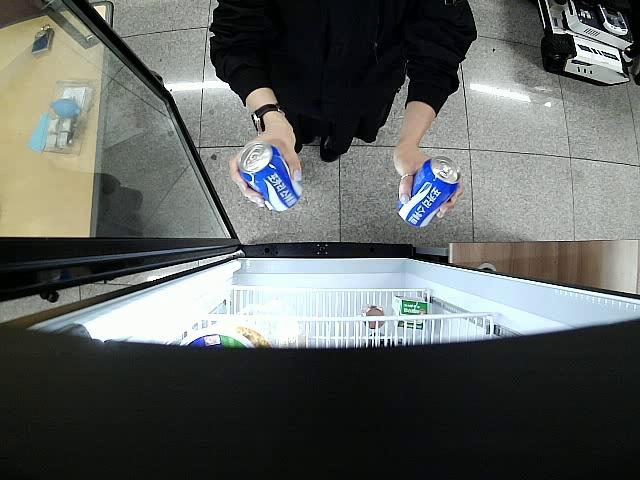00_hand: (393, 136, 464, 221), (228, 134, 303, 210)
13_pocariSweat: (239, 139, 302, 211), (399, 156, 461, 229)
